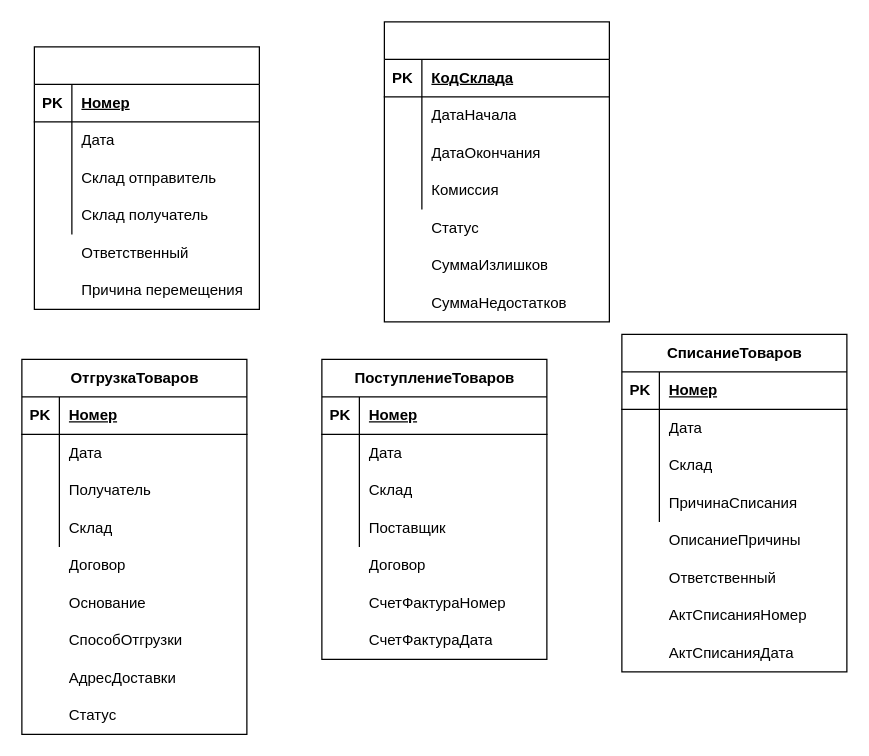
Some shapes in this 869 by 756 pixel diagram are drawn without their labels. Each missing label, with the box of its shape:
Внутреннее перемещение: (33, 46, 259, 309)
Инвентаризация: (383, 21, 609, 322)
